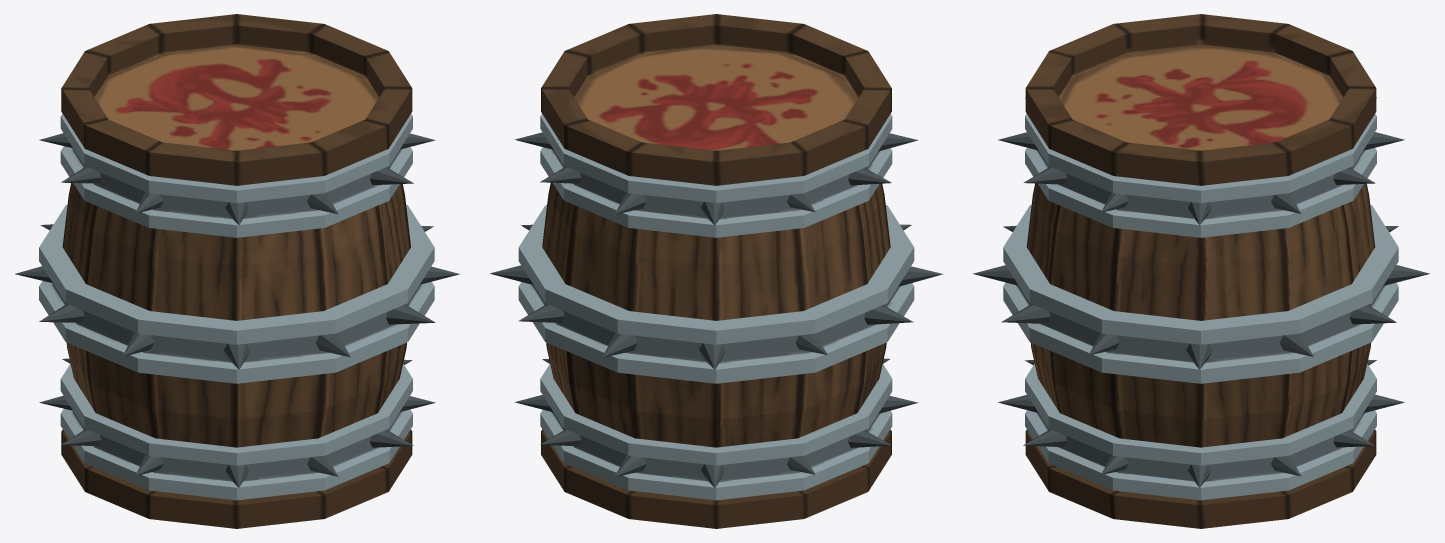
File: barrel.glb
3 views of the same model, side by side, from view 1: azimuth 30°, elevation 25°; view 2: azimuth 150°, elevation 25°; view 3: azimuth 270°, elevation 25° (orthographic).
Visible parts, largest first — view 1: Inimigos_0; view 2: Inimigos_0; view 3: Inimigos_0.
Boxes of the visible parts, x1,y1,x2,y2 form: Inimigos_0: (15, 14, 460, 528); Inimigos_0: (490, 14, 943, 528); Inimigos_0: (972, 14, 1429, 528).
Bounding box in the file's own units: 2.26 × 2.01 × 2.28.
1 material, 1 textured.
